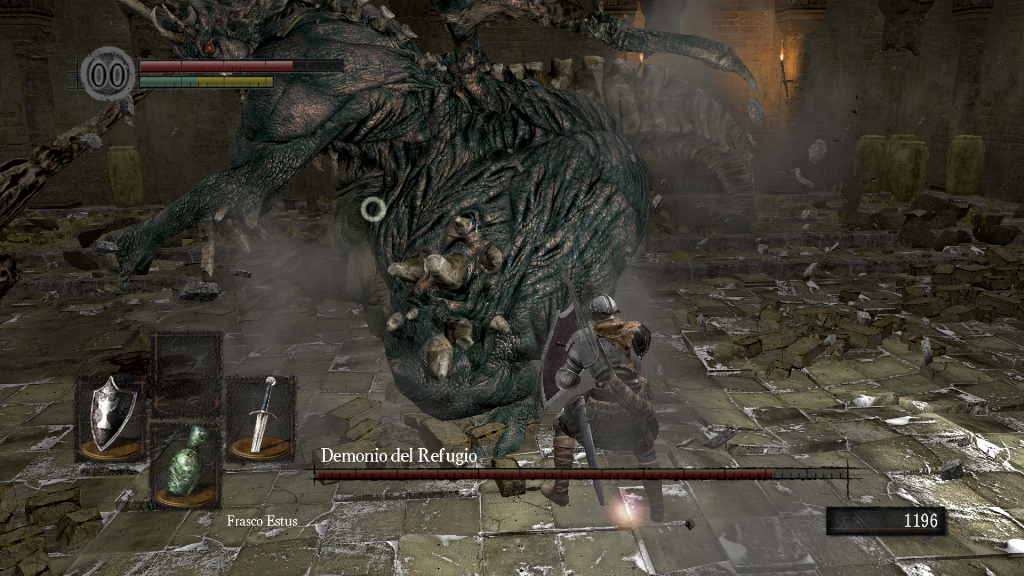asylumDemon: (4, 1, 758, 477)
bossHP: (314, 469, 847, 479)
health: (138, 58, 343, 71)
humanity: (80, 45, 136, 102)
player: (539, 292, 676, 522)
souls: (825, 506, 945, 536)
stamina: (138, 74, 274, 88)
